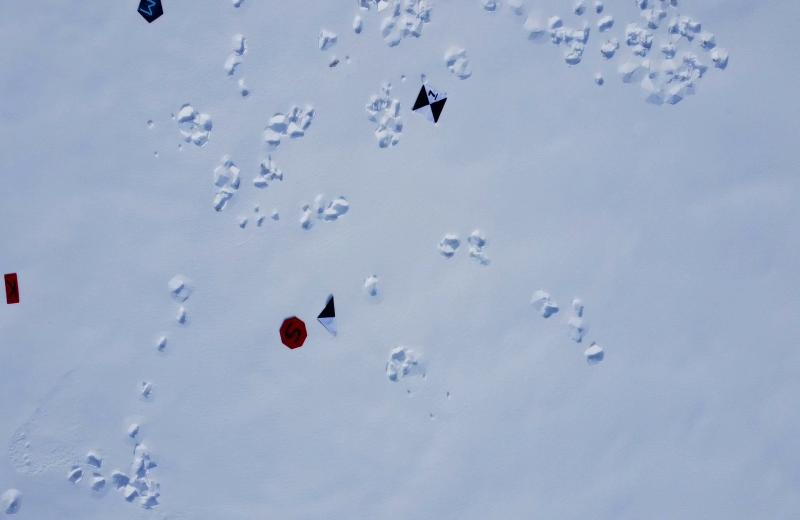Octagon: (276, 313, 310, 352)
Pentagon: (133, 0, 165, 26)
Rectangle: (0, 268, 23, 308)
